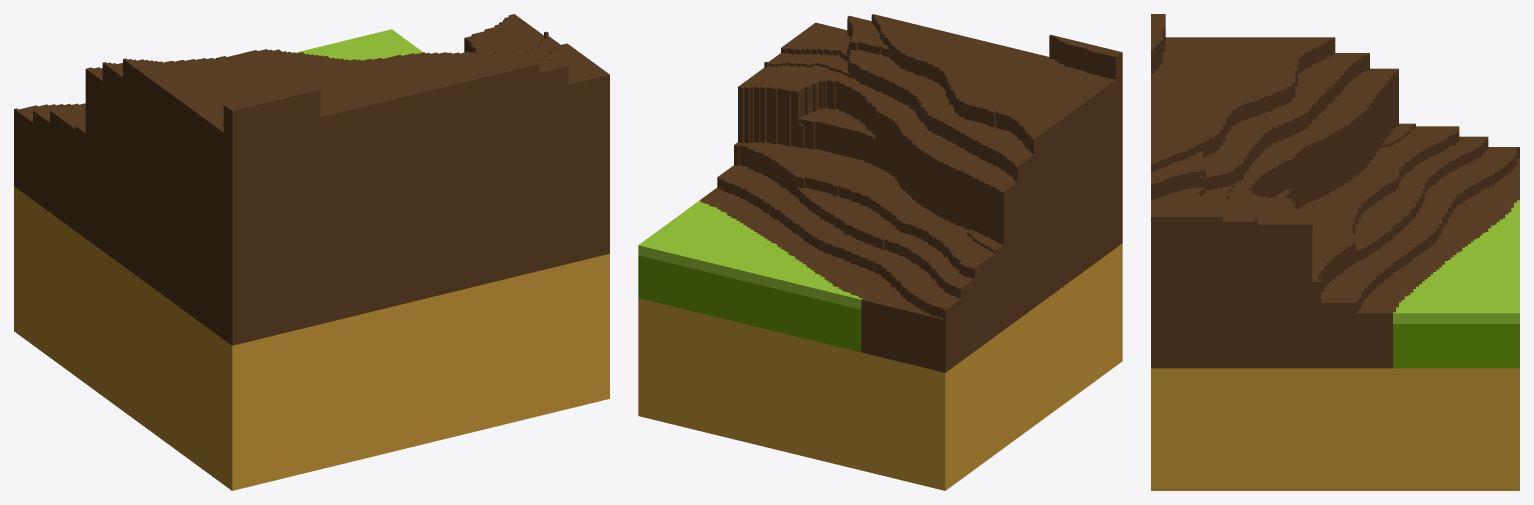
The picture shows the model from 3 angles, left to right: view 1: azimuth 30°, elevation 25°; view 2: azimuth 150°, elevation 25°; view 3: azimuth 270°, elevation 25°; orthographic projection. The views are drawn at different scales.
Parts seen in each view (by area): view 1: 8O; view 2: 8O; view 3: 8O.
Boxes of the visible parts, <box> form: 8O: <box>14,14,609,490</box>; 8O: <box>638,14,1122,490</box>; 8O: <box>1151,14,1519,490</box>.
Bounding box in the file's own units: 12.8 × 12.3 × 12.8.
Materials: 1 (1 with a texture image).
